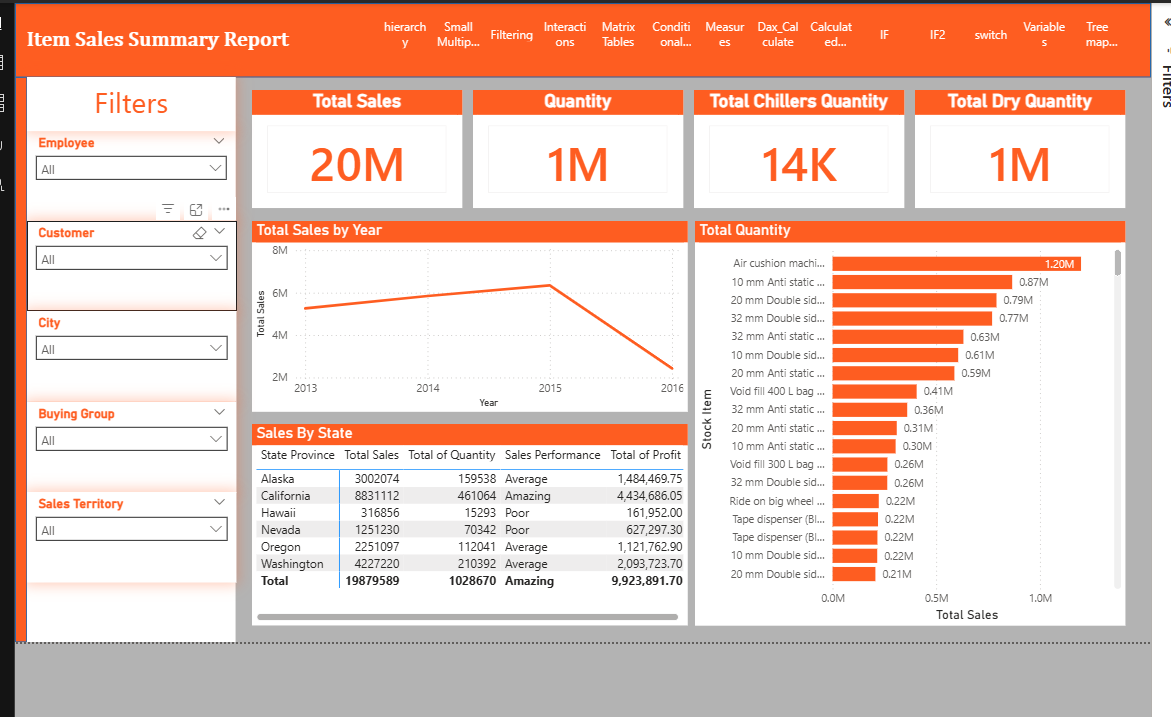

The dashboard page shown, as its layout file describes it:
{"tool":"powerbi","page":{"name":"Sales","canvas":[1280,720],"ordinal":14},"visuals":[{"type":"shape","box":[0,0,1280,83.9],"z":0},{"type":"shape","box":[0,83.4,13.6,637],"z":1000},{"type":"shape","box":[13.6,83.4,235.1,637],"z":2000},{"type":"textbox","box":[7.6,22.7,338.2,37.9],"z":3000},{"type":"cardVisual","title":"Total Sales","fields":{"Data":["Sum(FactSale.Total Excluding Tax)"]},"box":[266.9,97.8,236.6,133.5],"z":4000},{"type":"cardVisual","title":"Quantity","fields":{"Data":["Sum(FactSale.Quantity)"]},"box":[516.1,97.8,236.6,133.5],"z":5000},{"type":"cardVisual","title":"Total Chillers Quantity","fields":{"Data":["Sum(FactSale.Total Chiller Items)"]},"box":[765.4,97.8,236.6,133.5],"z":6000},{"type":"cardVisual","title":"Total Dry Quantity","fields":{"Data":["Sum(FactSale.Total Dry Items)"]},"box":[1014.6,97.8,236.6,133.5],"z":7000},{"type":"lineChart","fields":{"Category":["DimDate.Date.Variation.Date Hierarchy.Year","DimDate.Date.Variation.Date Hierarchy.Quarter","DimDate.Date.Variation.Date Hierarchy.Month","DimDate.Date.Variation.Date Hierarchy.Day"],"Y":["Sum(FactSale.Total Excluding Tax)"]},"box":[266.9,245.7,491.4,215.4],"z":8000},{"type":"barChart","title":"Total Quantity","fields":{"Y":["Sum(FactSale.Total Excluding Tax)"],"Category":["DimStockItem.Stock Item"]},"box":[765.9,245.7,485.3,456.5],"z":9000},{"type":"pivotTable","title":"Sales By State","fields":{"Values":["Sum(FactSale.Total Excluding Tax)","Sum(FactSale.Quantity)","FactSale.Sales Performance","Sum(FactSale.Profit)"],"Rows":["DimCity.State Province"]},"box":[266.9,474.7,491.4,227.5],"z":10000},{"type":"slicer","fields":{"Values":["DimEmployee.Employee"]},"box":[13.6,144.1,235.1,101.6],"z":11000},{"type":"textbox","box":[13.6,83.4,235.1,60.7],"z":12000},{"type":"slicer","fields":{"Values":["DimCustomer.Customer"]},"box":[14,245.6,235.6,101.8],"z":13000},{"type":"slicer","fields":{"Values":["DimCity.City"]},"box":[14,347.5,235.6,101.8],"z":14000},{"type":"slicer","fields":{"Values":["DimCustomer.Buying Group"]},"box":[14,449.3,235.6,101.8],"z":15000},{"type":"slicer","fields":{"Values":["DimCity.Sales Territory"]},"box":[14,551.1,235.6,101.8],"z":16000},{"type":"pageNavigator","box":[414.5,9.5,841.7,50.6],"z":17000}]}

Visuals, with their boxes on the page's 1280x720 design canvas (x1, y1, x2, y2). These are canvas units, not pixel positions in the 1171x717 screenshot, which may show the page scaled, cropped or inside an application window:
shape: {"x1": 0, "y1": 0, "x2": 1280, "y2": 84}
shape: {"x1": 0, "y1": 83, "x2": 14, "y2": 720}
shape: {"x1": 14, "y1": 83, "x2": 249, "y2": 720}
textbox: {"x1": 8, "y1": 23, "x2": 346, "y2": 61}
"Total Sales" cardVisual: {"x1": 267, "y1": 98, "x2": 504, "y2": 231}
"Quantity" cardVisual: {"x1": 516, "y1": 98, "x2": 753, "y2": 231}
"Total Chillers Quantity" cardVisual: {"x1": 765, "y1": 98, "x2": 1002, "y2": 231}
"Total Dry Quantity" cardVisual: {"x1": 1015, "y1": 98, "x2": 1251, "y2": 231}
lineChart - DimDate.Date.Variation.Date Hierarchy.Year x DimDate.Date.Variation.Date Hierarchy.Quarter: {"x1": 267, "y1": 246, "x2": 758, "y2": 461}
"Total Quantity" barChart: {"x1": 766, "y1": 246, "x2": 1251, "y2": 702}
"Sales By State" pivotTable: {"x1": 267, "y1": 475, "x2": 758, "y2": 702}
slicer - DimEmployee.Employee: {"x1": 14, "y1": 144, "x2": 249, "y2": 246}
textbox: {"x1": 14, "y1": 83, "x2": 249, "y2": 144}
slicer - DimCustomer.Customer: {"x1": 14, "y1": 246, "x2": 250, "y2": 347}
slicer - DimCity.City: {"x1": 14, "y1": 348, "x2": 250, "y2": 449}
slicer - DimCustomer.Buying Group: {"x1": 14, "y1": 449, "x2": 250, "y2": 551}
slicer - DimCity.Sales Territory: {"x1": 14, "y1": 551, "x2": 250, "y2": 653}
pageNavigator: {"x1": 414, "y1": 10, "x2": 1256, "y2": 60}
